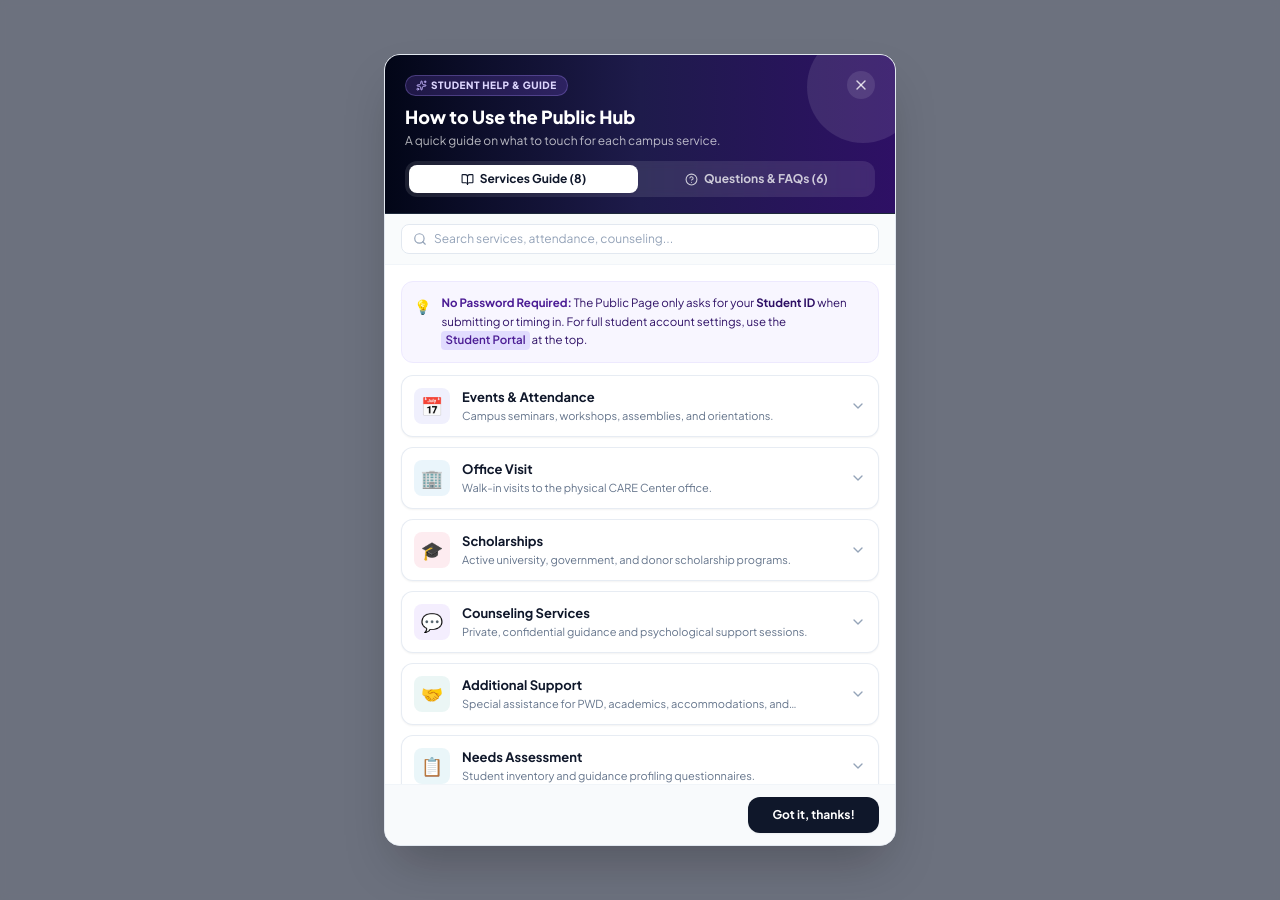
Test case: PublicHelpGuideModal › switches to FAQs tab when clicked
Click the button "Questions & FAQs (6)" at (756, 179), box [642,165,871,193]
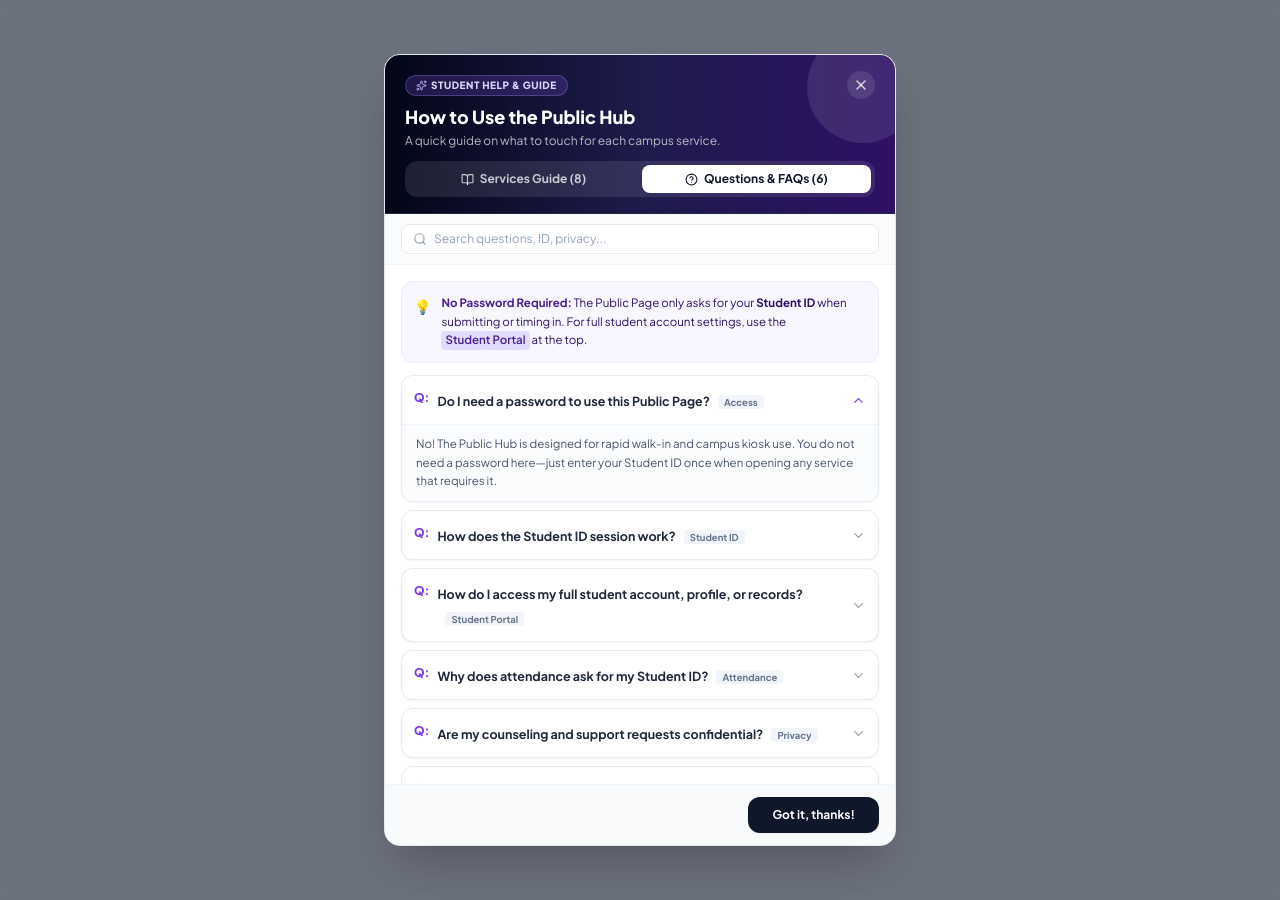
Expected: the text "Do I need a password to use this Public Page?" is shown, [437,393,710,409]
